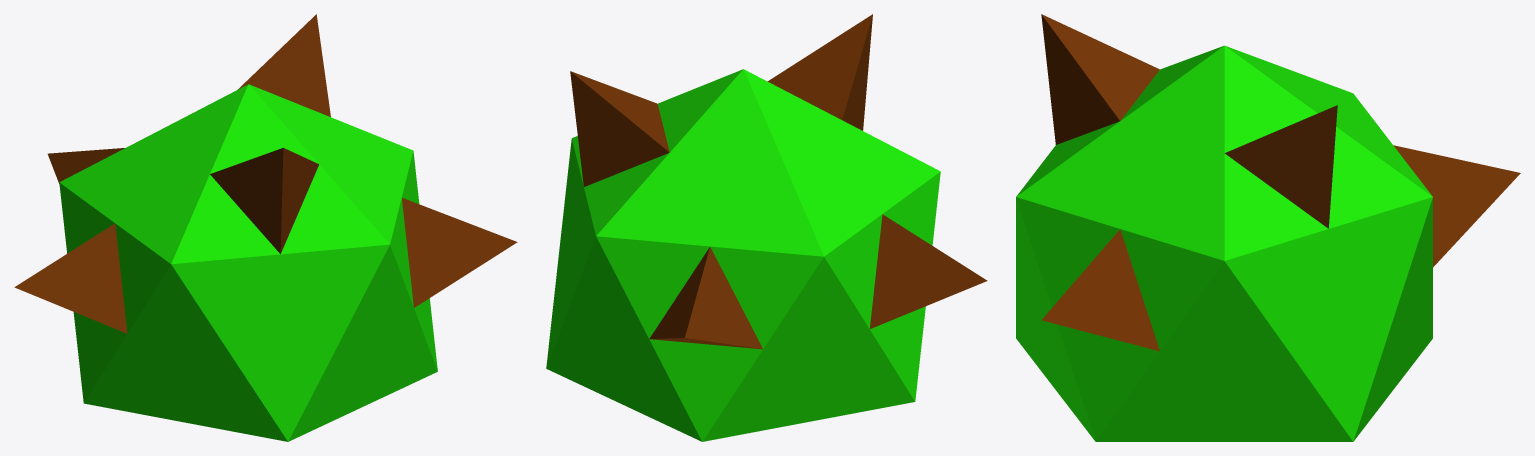
The model's file is bush_with_spikes.fbx.
3 renders of one model, left to right at view 1: azimuth 30°, elevation 25°; view 2: azimuth 150°, elevation 25°; view 3: azimuth 270°, elevation 25°, orthographic. The views are drawn at different scales.
Parts seen in each view (by area): view 1: bush, spikes; view 2: bush, spikes; view 3: bush, spikes.
Boxes of the visible parts, bbox=[...] form: bush: bbox=[59, 84, 437, 441]; spikes: bbox=[14, 14, 517, 333]; bush: bbox=[546, 69, 940, 441]; spikes: bbox=[570, 14, 987, 349]; bush: bbox=[1016, 45, 1432, 441]; spikes: bbox=[1041, 14, 1520, 351].
Size of the model in its own units: 230 by 148 by 206.
